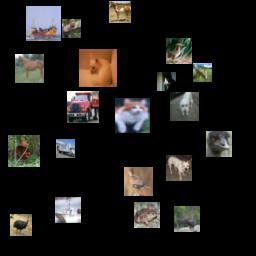bird: (124, 167, 153, 196), (206, 131, 232, 157), (166, 38, 192, 64), (10, 214, 32, 236)
cat: (115, 98, 150, 133), (62, 19, 81, 38), (157, 72, 176, 91)
deer: (8, 135, 40, 167), (174, 206, 200, 232), (193, 63, 212, 82)
dog: (79, 49, 117, 87), (170, 92, 199, 121), (166, 155, 192, 181)
frog: (134, 202, 160, 228)
ship: (26, 6, 61, 41), (55, 197, 81, 223)
truck: (67, 91, 99, 123), (56, 139, 75, 158)
